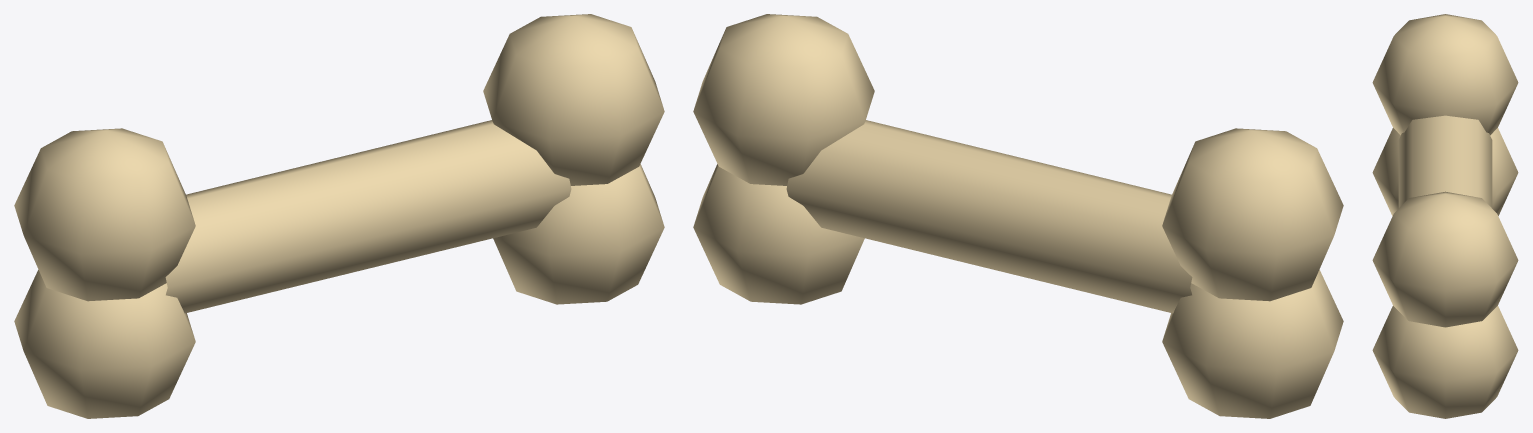
File: life-dogBone.glb
3 views of the same model, side by side, from view 1: azimuth 30°, elevation 25°; view 2: azimuth 150°, elevation 25°; view 3: azimuth 270°, elevation 25° (orthographic). The views are drawn at different scales.
Visible parts, largest first — view 1: life.dogBone; view 2: life.dogBone; view 3: life.dogBone.
Boxes of the visible parts, box(x1,y1,x2,y2) form: life.dogBone: box(14, 14, 664, 418); life.dogBone: box(693, 14, 1343, 418); life.dogBone: box(1372, 14, 1518, 418).
Bounding box in the file's own units: 1.97 × 0.853 × 0.5077.
1 material, 1 textured.
